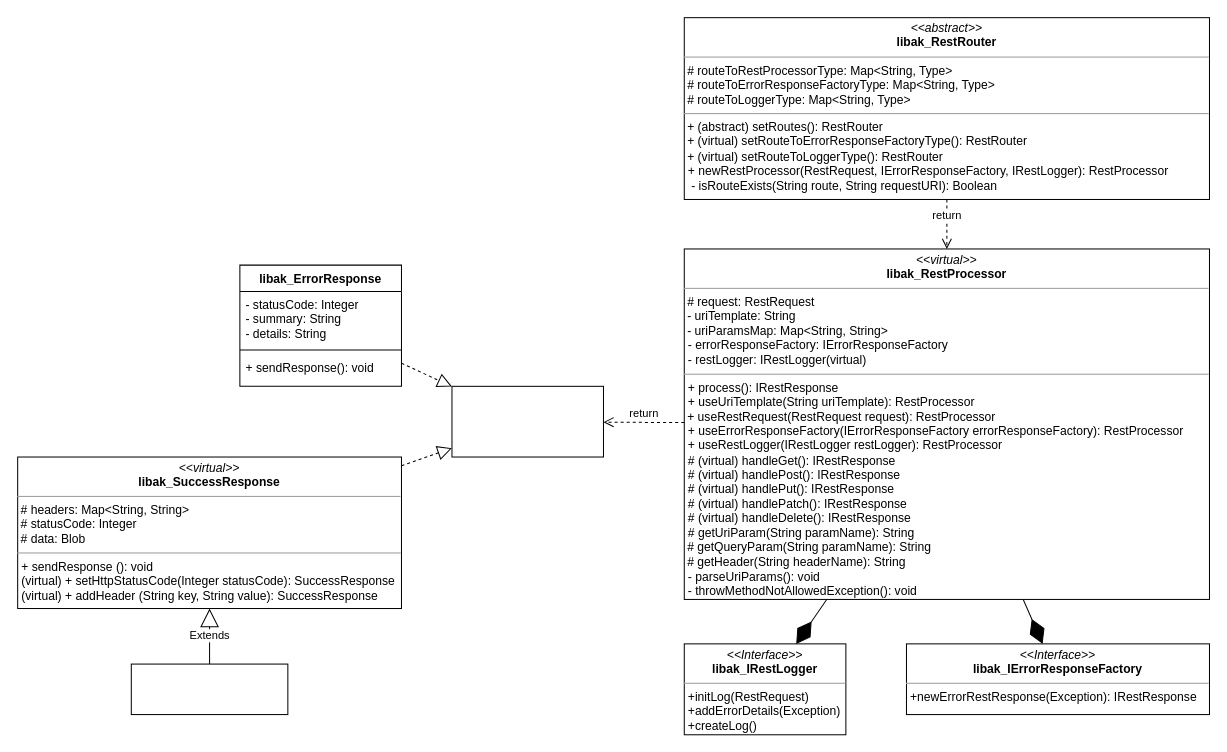
This 1227x752 diagram has some shape labels left out. Here are the shapes that lost their labels. From the top down, the centre of each, then its label:
At (x=527, y=421): "<<Interface>> libak_ IRestResponse +sendResponse()".
At (x=209, y=689): "libak_ JsonResponse".
